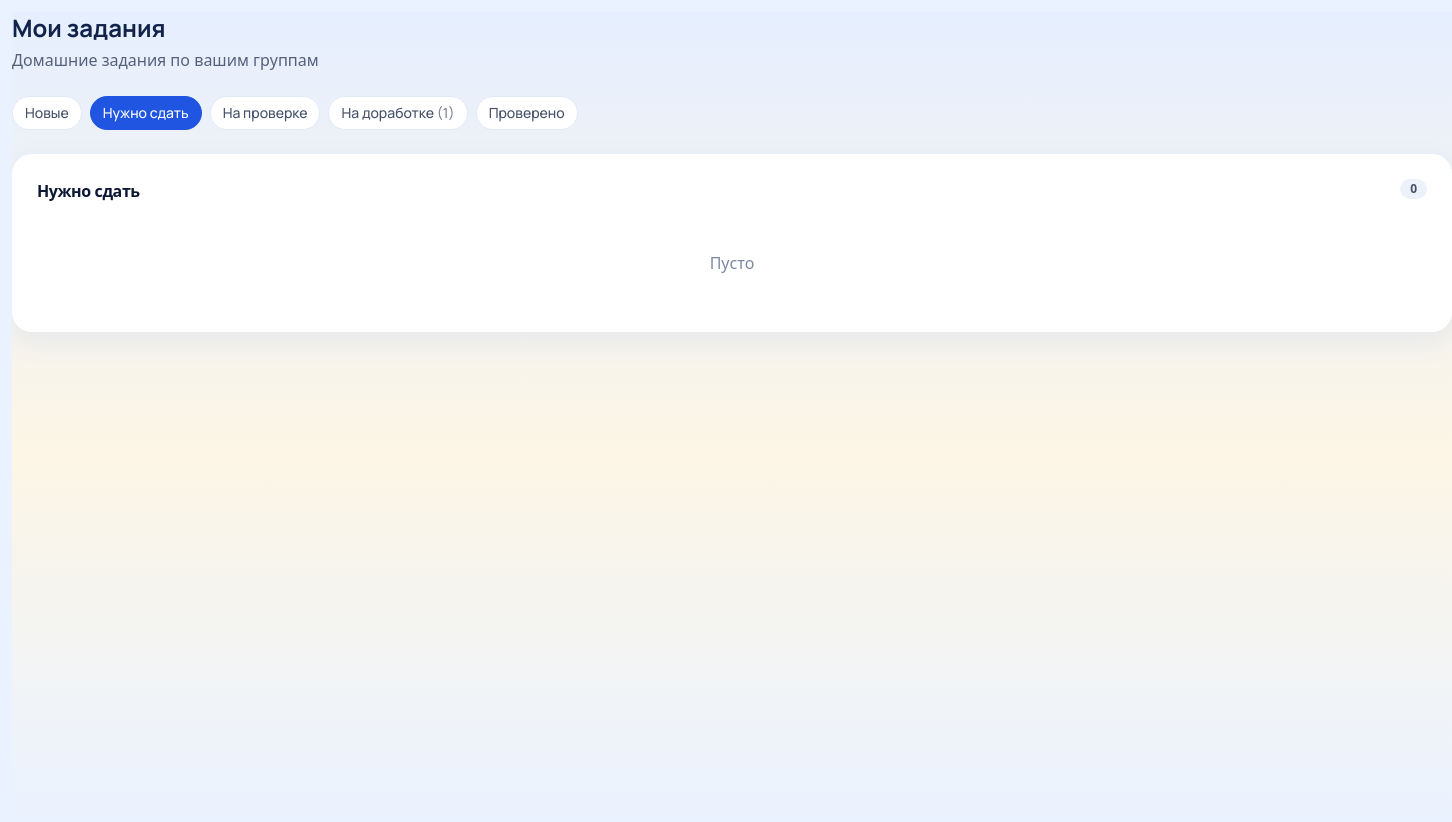
Test: MyHomeworksV2Page — категории (server-derived, проверяем что UI их корректно отображает по вкладкам) › returned_for_revision: отдельная вкладка «На доработке», показывает комментарий/оценку, кнопка «Пересдать»
Click the button "На доработке (1)" at [398, 113], box [328,96,468,130]
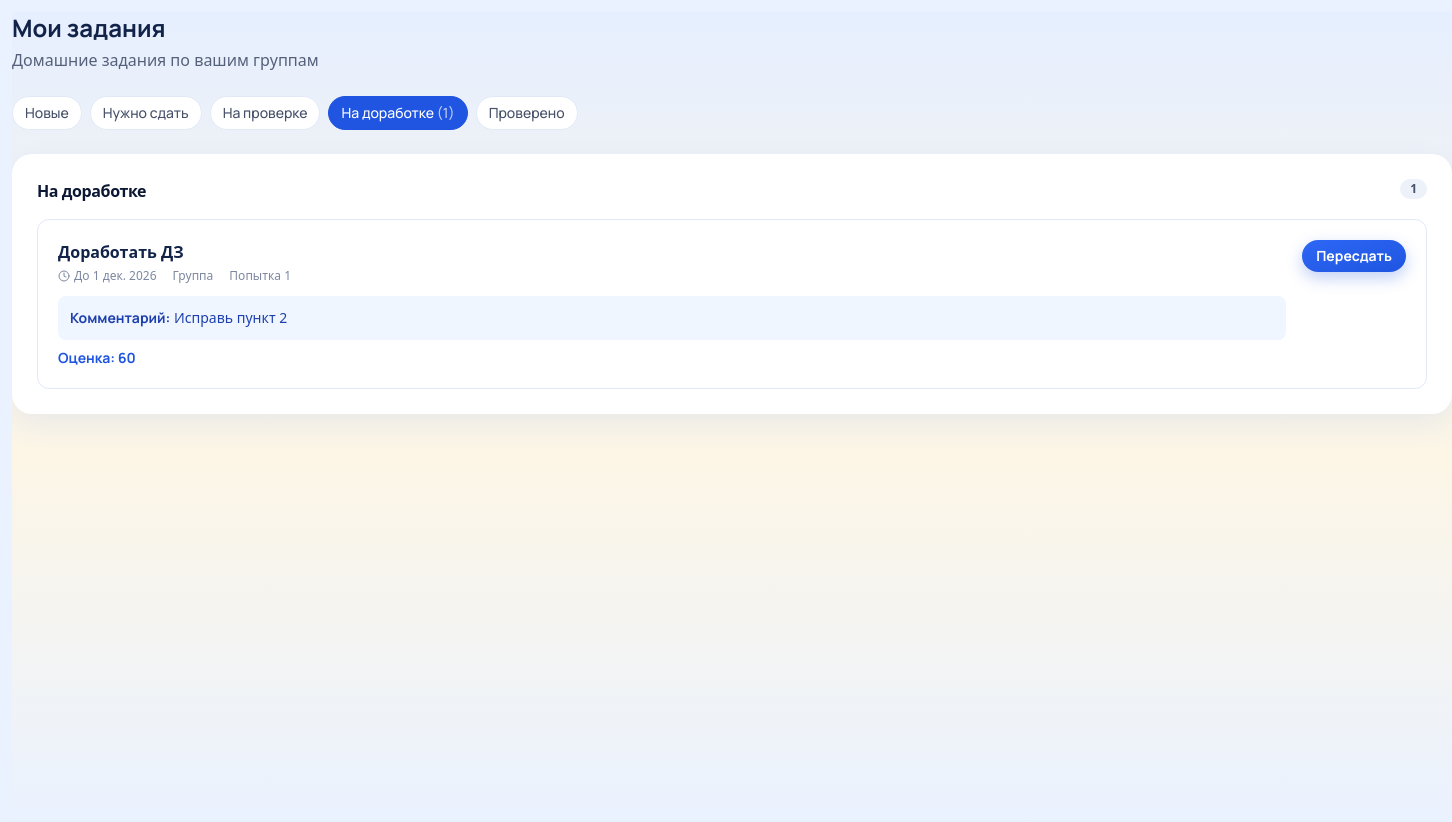
Now the heading "Доработать ДЗ" is shown, box [58,240,184,264]
Now the text "Комментарий: Исправь пункт 2" is shown, box [58,296,1286,340]
Now the text "Оценка: 60" is shown, box [58,348,135,367]
